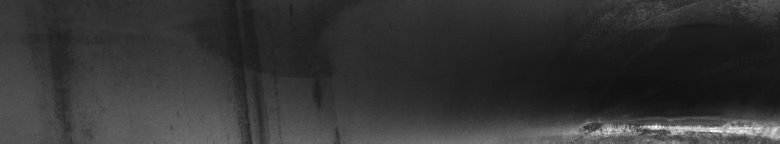ke: (436, 4, 776, 136)
